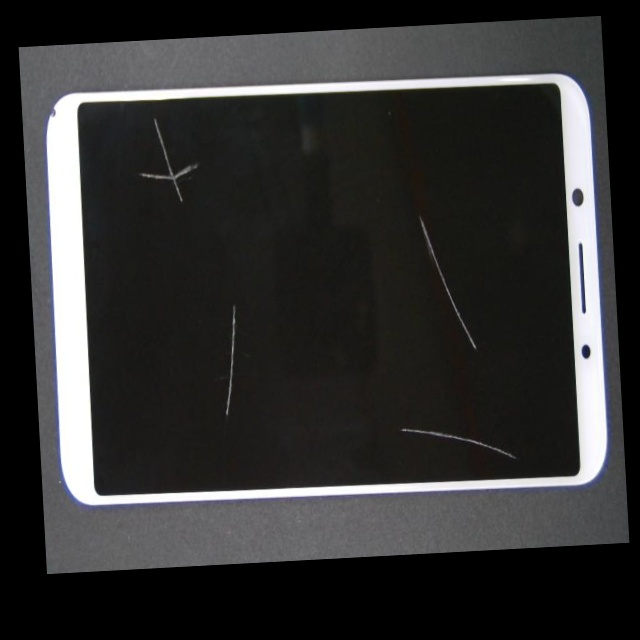scratch: (209, 25, 619, 373), (334, 248, 629, 558), (130, 91, 324, 490), (86, 102, 249, 286)
